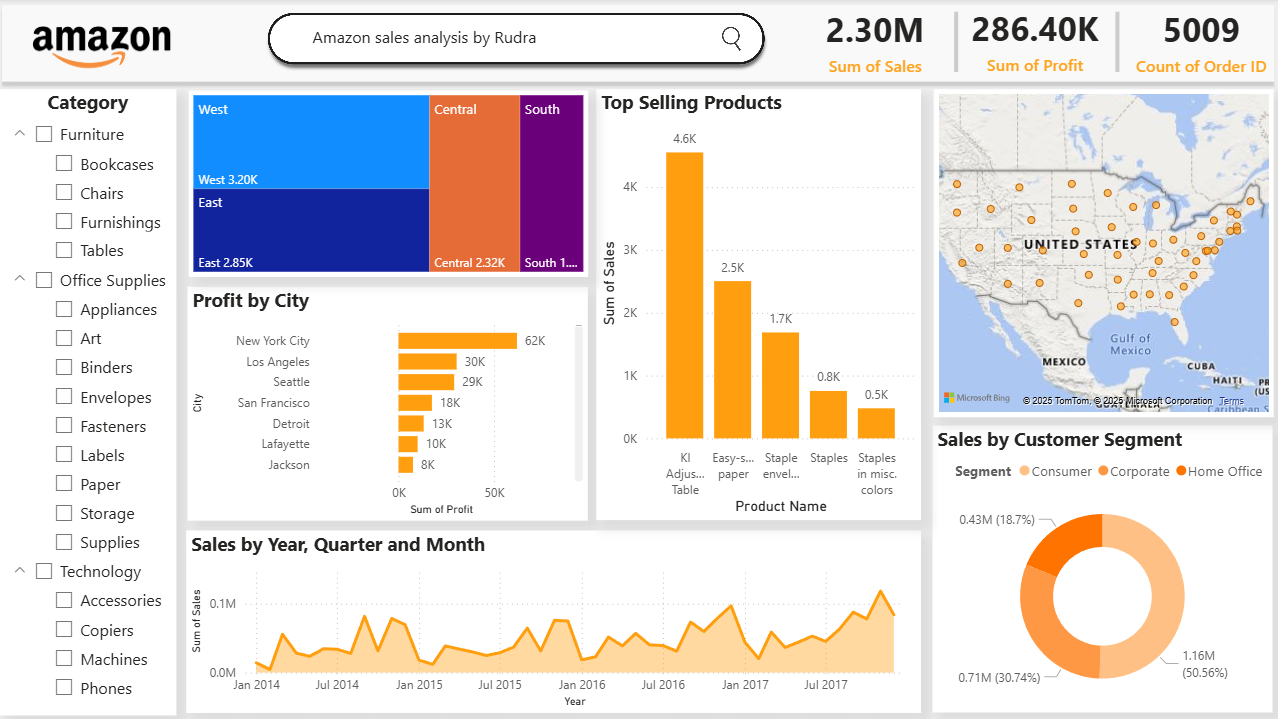

The page's visual inventory and layout, read from the dashboard file:
{"tool":"powerbi","page":{"name":"Page 1","canvas":[1280,720],"ordinal":0},"visuals":[{"type":"slicer","title":"Category","fields":{"Values":["Orders.Category","Orders.Sub-Category"]},"box":[4.3,91.4,177.1,622.9],"z":0},{"type":"clusteredBarChart","title":"Profit by City","fields":{"Y":["Orders.Profit"],"Category":["Orders.City"]},"box":[191.4,287.1,398.6,232.9],"z":1000},{"type":"shape","box":[0,0,1280,90],"z":2000},{"type":"image","box":[4.3,0,204.3,90],"z":3000},{"type":"areaChart","title":"Sales by Year, Quarter and Month","fields":{"Y":["Orders.Sales"],"Category":["Orders.Order Date.Variation.Date Hierarchy.Year","Orders.Order Date.Variation.Date Hierarchy.Quarter","Orders.Order Date.Variation.Date Hierarchy.Month"]},"box":[190,530,731.4,181.4],"z":4000},{"type":"donutChart","title":"Sales by Customer Segment","fields":{"Category":["Orders.Segment"],"Y":["Orders.Sales"]},"box":[932.9,425.7,338.6,285.7],"z":5000},{"type":"card","fields":{"Values":["Orders.Sales"]},"box":[801.4,0,150,84.3],"z":6000},{"type":"card","fields":{"Values":["Orders.Profit"]},"box":[960.8,1.4,150,80],"z":7000},{"type":"shape","box":[1102.9,14.3,27.1,60],"z":8000},{"type":"image","box":[235.7,1.4,567.1,78.6],"z":9000},{"type":"textbox","box":[311.4,22.9,318.6,35.7],"z":10000},{"type":"clusteredColumnChart","title":"Top Selling Products","fields":{"Category":["Orders.Product Name"],"Y":["Orders.Sales"]},"box":[598.6,91.4,322.9,428.6],"z":11000},{"type":"card","fields":{"Values":["Orders.Order ID"]},"box":[1125.7,0,150,84.3],"z":12000},{"type":"shape","box":[942.9,14.3,27.1,60],"z":13000},{"type":"treemap","fields":{"Group":["Orders.Region"],"Details":["Orders.Region"],"Values":["Orders.Region"]},"box":[192.2,92.2,397.8,185.6],"z":14000},{"type":"map","fields":{"Category":["Orders.State"]},"box":[933.8,91.2,338.8,326.2],"z":15000}]}

Visuals, with their boxes in screenshot pixels (x1, y1, x2, y2), scaled from the page's 1280x720 canvas onto the 1278x719 screenshot:
"Category" slicer: bbox=[4, 91, 181, 713]
"Profit by City" clusteredBarChart: bbox=[191, 287, 589, 519]
shape: bbox=[0, 0, 1277, 90]
image: bbox=[4, 0, 208, 90]
"Sales by Year, Quarter and Month" areaChart: bbox=[190, 529, 920, 710]
"Sales by Customer Segment" donutChart: bbox=[931, 425, 1270, 710]
card - Orders.Sales: bbox=[800, 0, 950, 84]
card - Orders.Profit: bbox=[959, 1, 1109, 81]
shape: bbox=[1101, 14, 1128, 74]
image: bbox=[235, 1, 802, 80]
textbox: bbox=[311, 23, 629, 59]
"Top Selling Products" clusteredColumnChart: bbox=[598, 91, 920, 519]
card - Orders.Order ID: bbox=[1124, 0, 1274, 84]
shape: bbox=[941, 14, 968, 74]
treemap - Orders.Region x Orders.Region: bbox=[192, 92, 589, 277]
map - Orders.State: bbox=[932, 91, 1271, 417]
